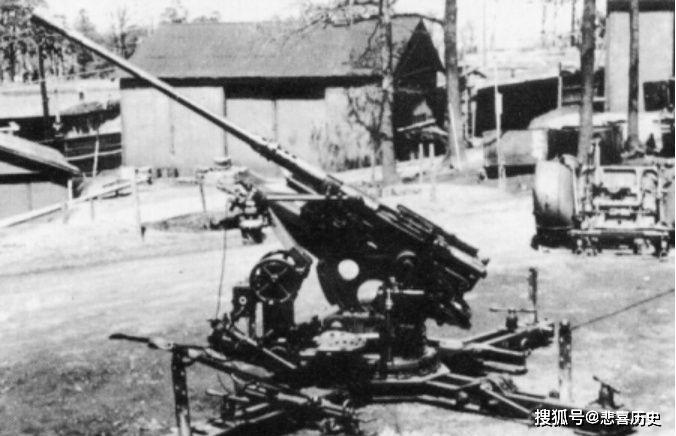MIL_SPG: (33, 15, 570, 434)
